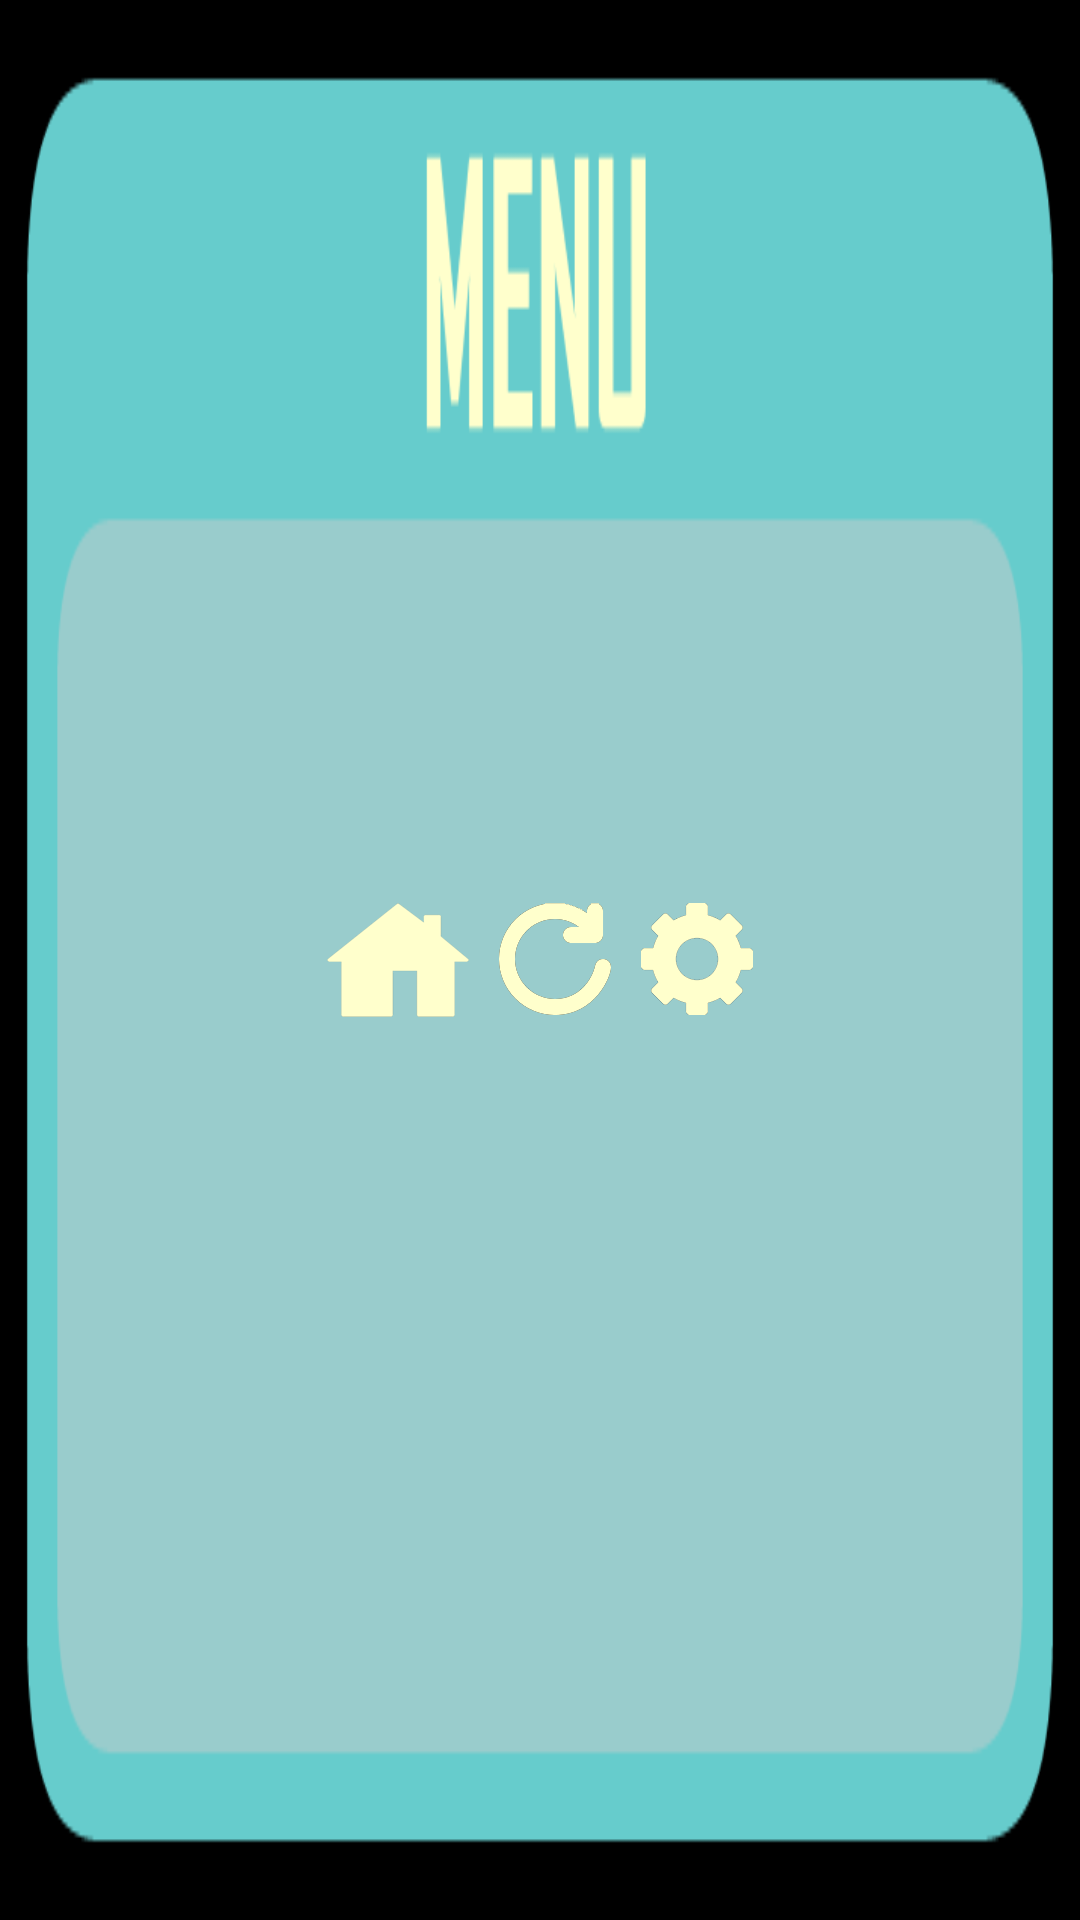

Icons on this 1080px×1920px Android screen, each with its box as Rect(x1, y1, x2, y2):
home: Rect(327, 903, 469, 1017)
restart: Rect(499, 903, 611, 1015)
settings: Rect(641, 903, 753, 1015)
